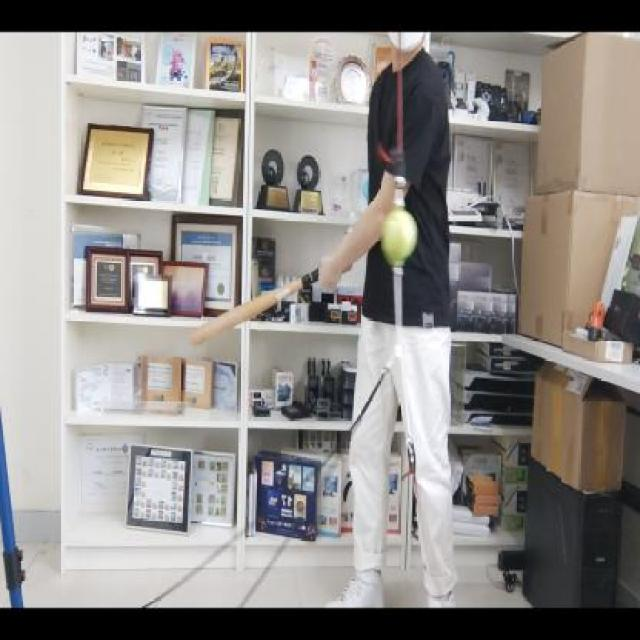baseball: (380, 208, 418, 262)
